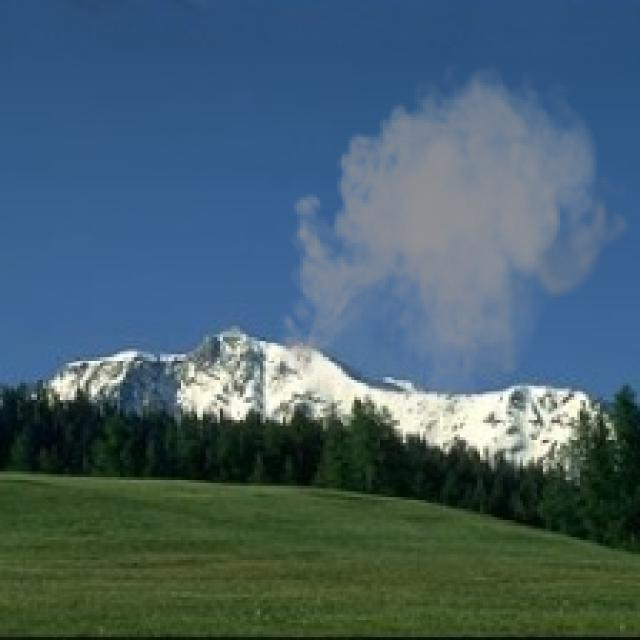smoke: (272, 54, 632, 440)
